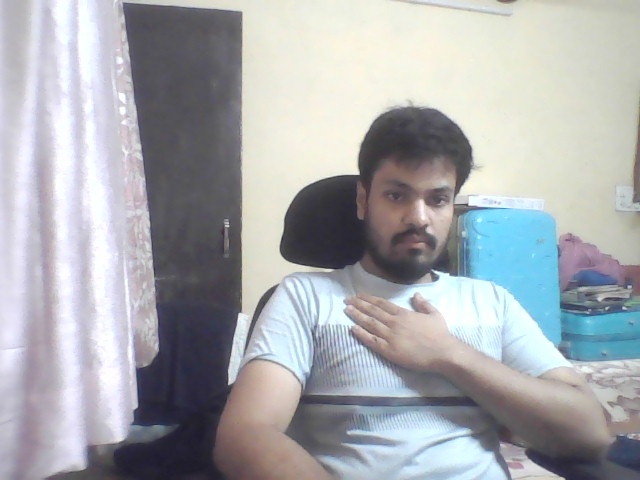Please: (319, 272, 478, 381)
